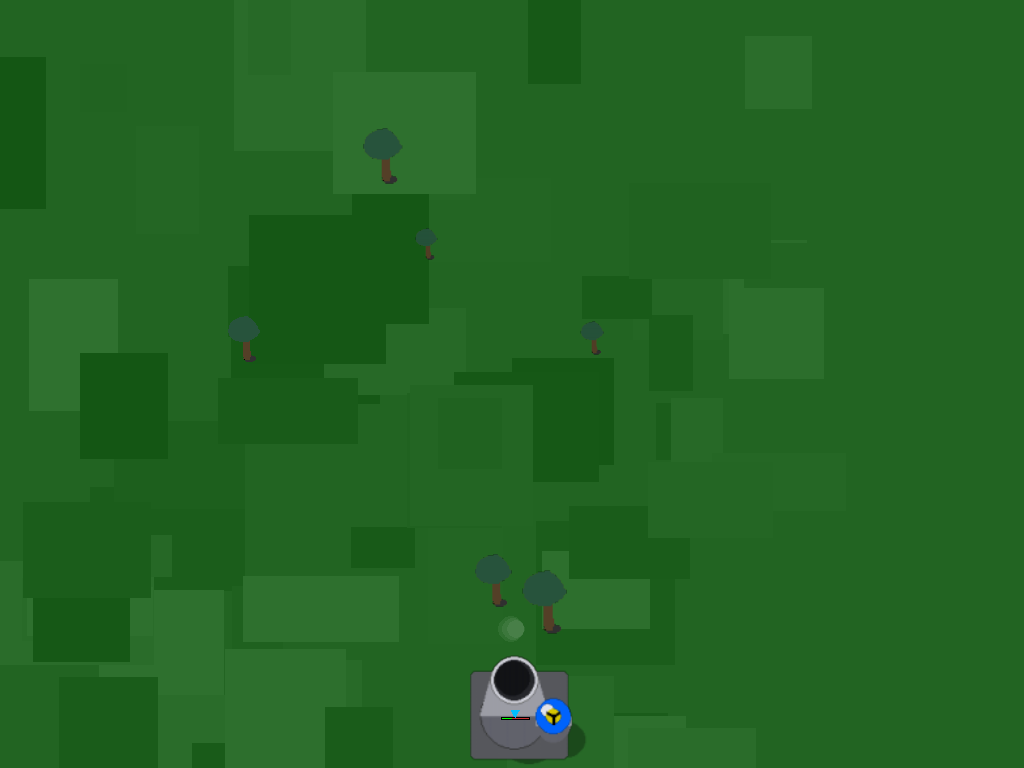PowerPlant: (475, 677, 554, 756)
